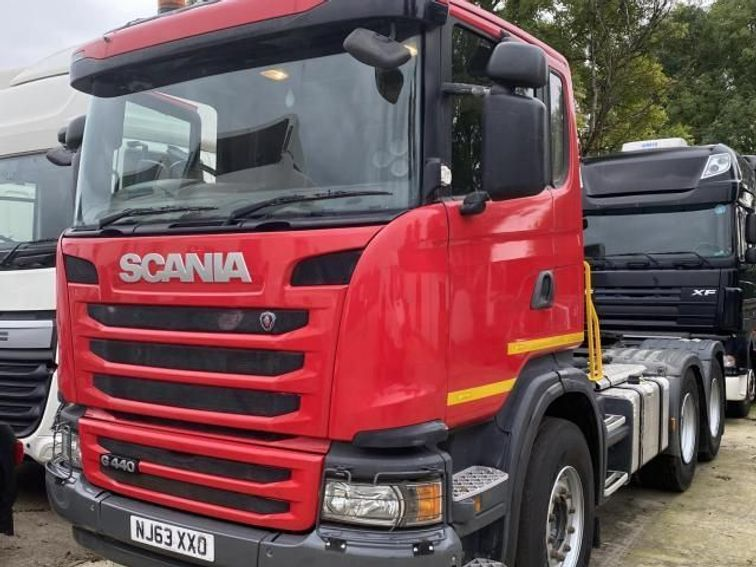Semi: (55, 0, 724, 566)
